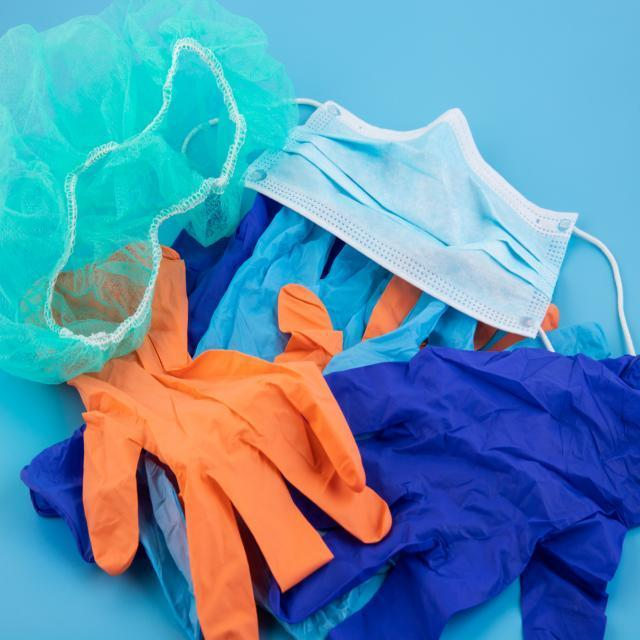Mask: (180, 95, 636, 361)
